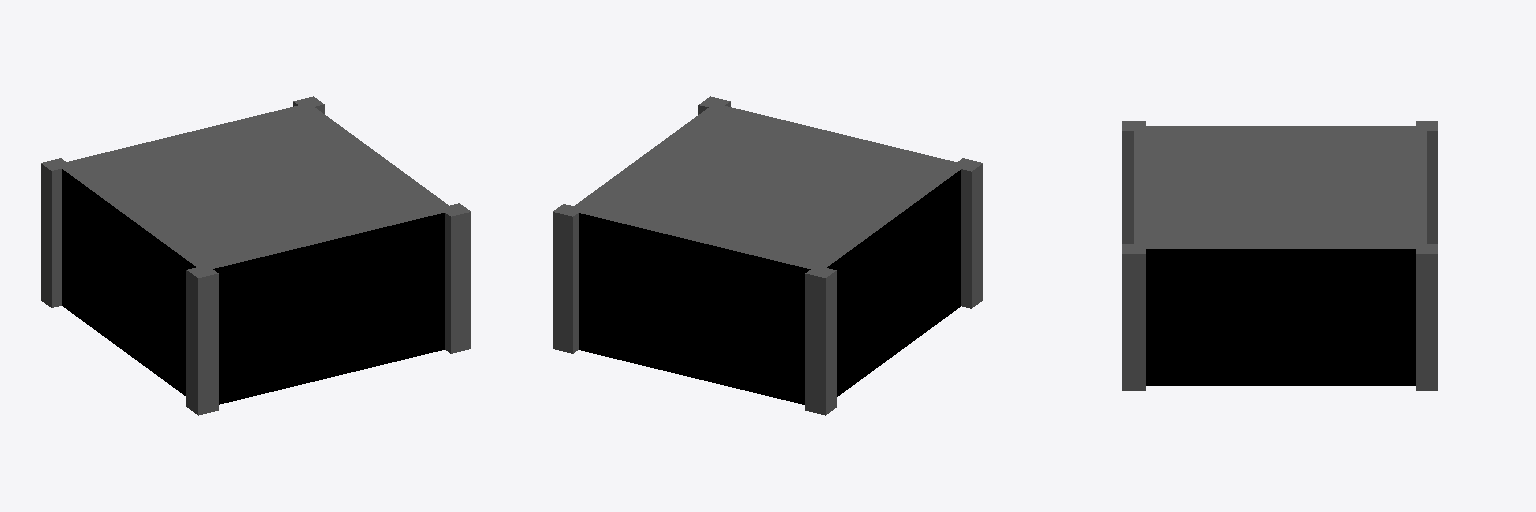
3 views of the same model, side by side, from view 1: azimuth 30°, elevation 25°; view 2: azimuth 150°, elevation 25°; view 3: azimuth 270°, elevation 25° (orthographic).
Visible parts, largest first — view 1: Building.004; view 2: Building.004; view 3: Building.004.
Part boxes in pixels (x1,y1,x2,y2): Building.004: (41, 96, 470, 415); Building.004: (553, 96, 982, 415); Building.004: (1122, 121, 1437, 390).
Size of the model in its own units: 2 by 0.96 by 2.
Materials: 1 (1 with a texture image).